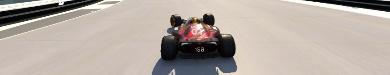Car: (160, 12, 235, 59)
